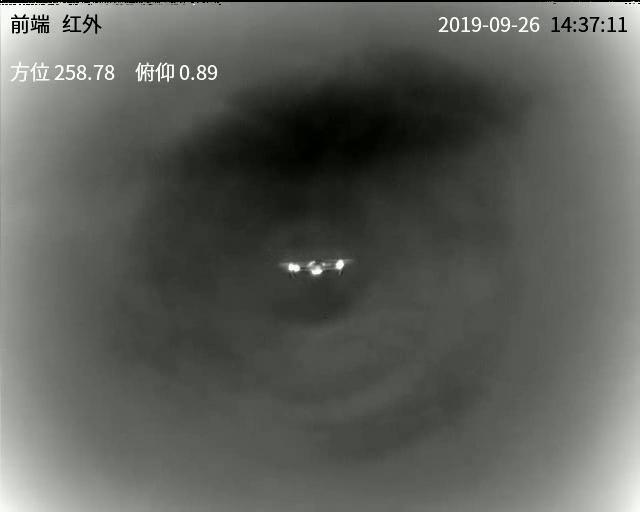DRONE: (286, 255, 347, 281)
